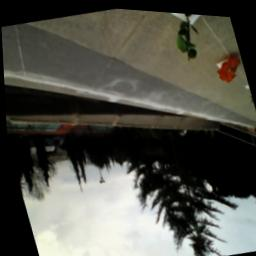herb: (169, 15, 207, 63)
wild: (212, 47, 246, 83)
